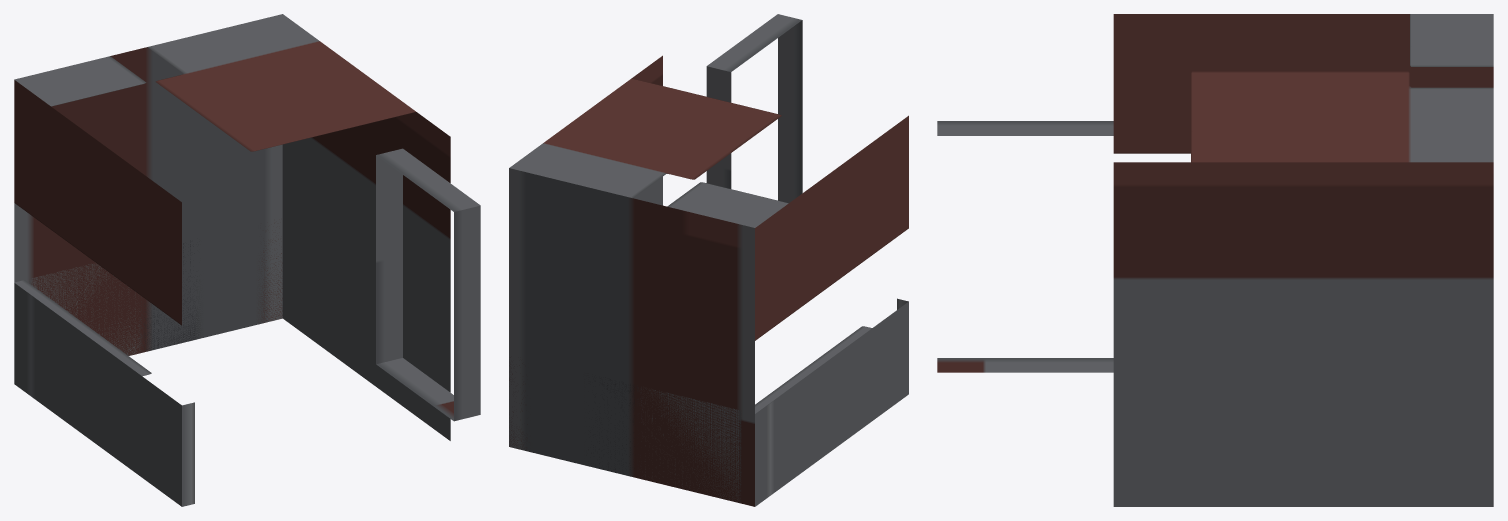
Rendered from section-0.obj.
The picture shows the model from 3 angles, left to right: view 1: azimuth 30°, elevation 25°; view 2: azimuth 150°, elevation 25°; view 3: azimuth 270°, elevation 25°; orthographic projection. The views are drawn at different scales.
Bounding box in the file's own units: 0.846 × 0.9165 × 1.34.
